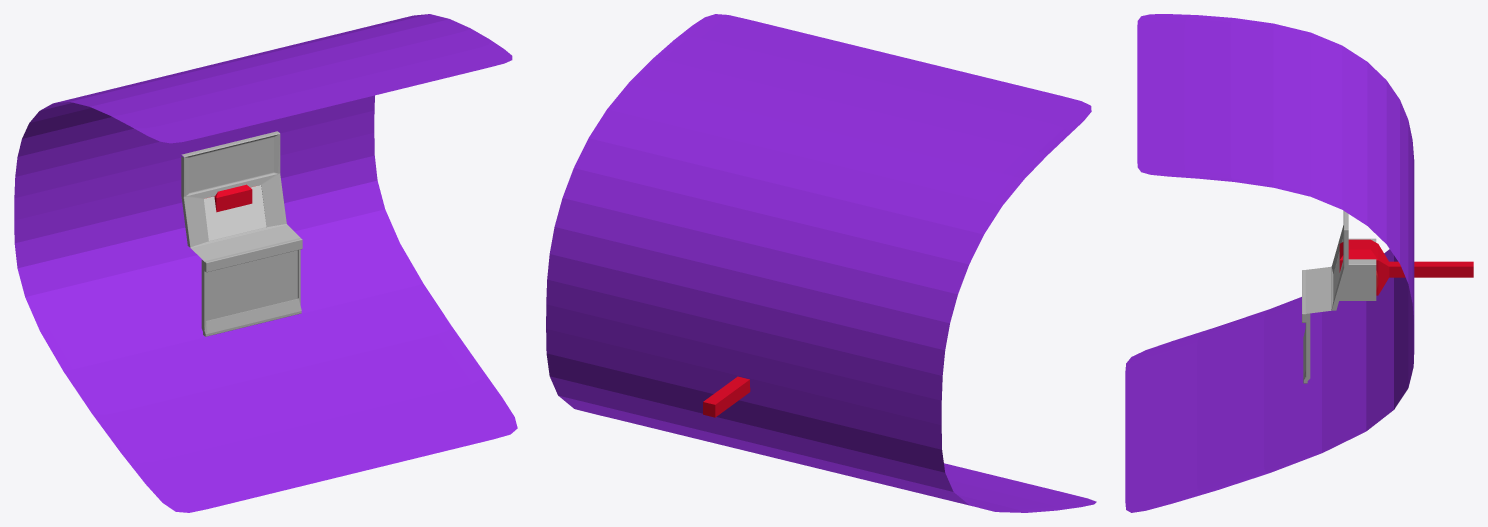
3 views of the same model, side by side, from view 1: azimuth 30°, elevation 25°; view 2: azimuth 150°, elevation 25°; view 3: azimuth 270°, elevation 25° (orthographic). The views are drawn at different scales.
Visible parts, largest first — view 1: Shirm, Box, Glass, Cube; view 2: Shirm, Cube; view 3: Shirm, Box, Cube.
Part boxes in pixels (box(x1,y1,x2,y2)): Shirm: box(14, 14, 517, 512); Box: box(181, 131, 302, 336); Glass: box(204, 185, 266, 240); Cube: box(213, 184, 252, 212); Shirm: box(546, 14, 1096, 512); Cube: box(703, 376, 750, 417); Shirm: box(1125, 14, 1414, 512); Box: box(1302, 211, 1376, 383); Cube: box(1339, 239, 1473, 295).
Size of the model in its own units: 20.02 by 19.48 by 17.94.
